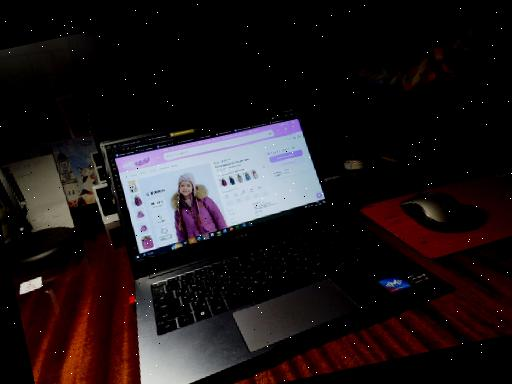wildberries: (117, 118, 327, 247)
